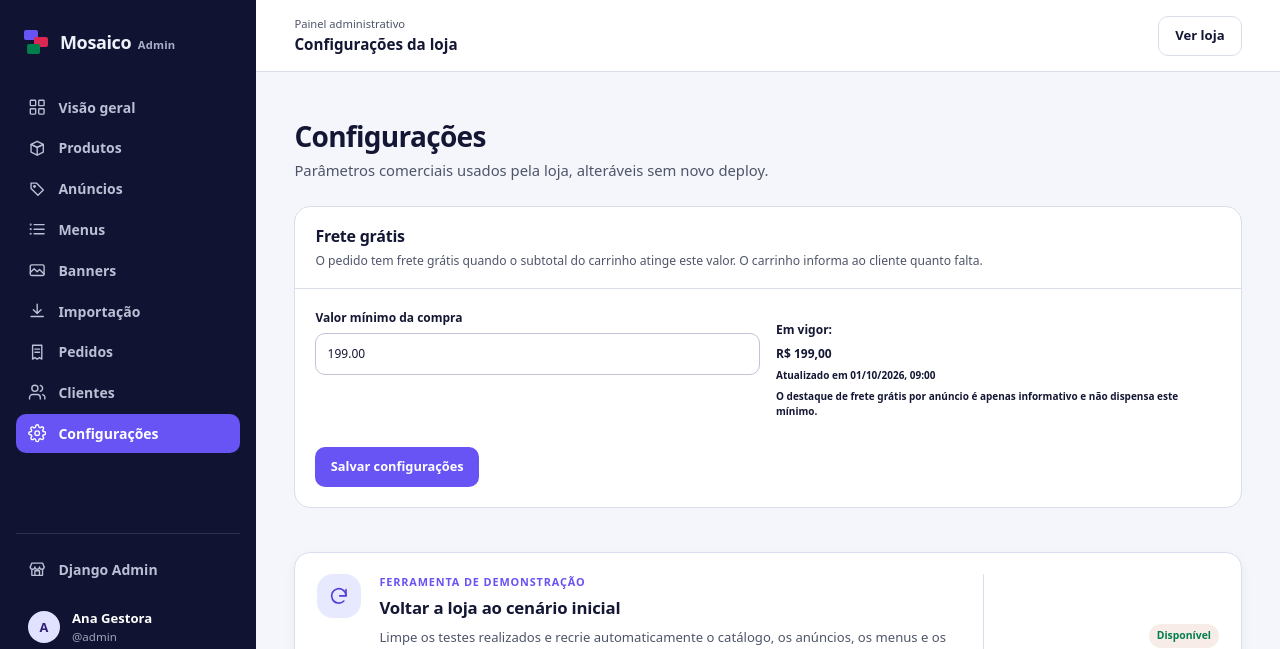
it: Mosaico Admin › edits the free shipping minimum from the settings page
This screenshot has width=1280, height=649.
Replace the text in the number field labelled "Valor mínimo da compra" with "250.00": coordinates (538, 354) x1=315 y1=333 x2=760 y2=375
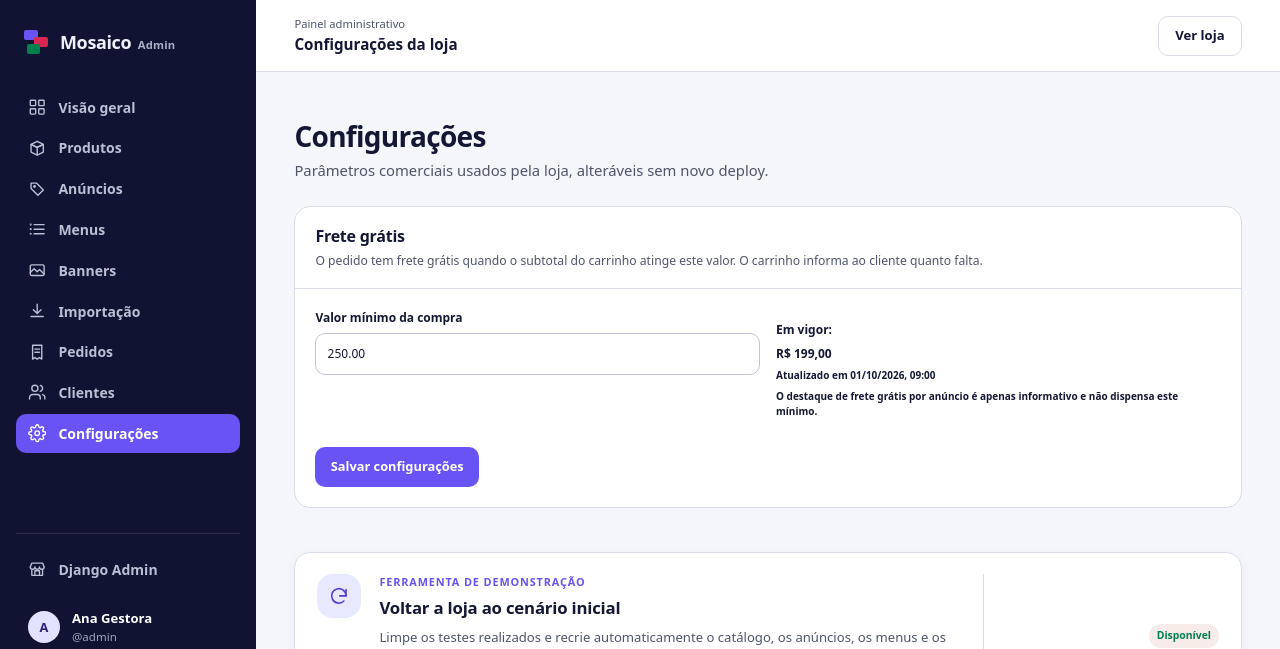
Click the button "Salvar configurações": coordinates (397, 467) x1=315 y1=447 x2=479 y2=487
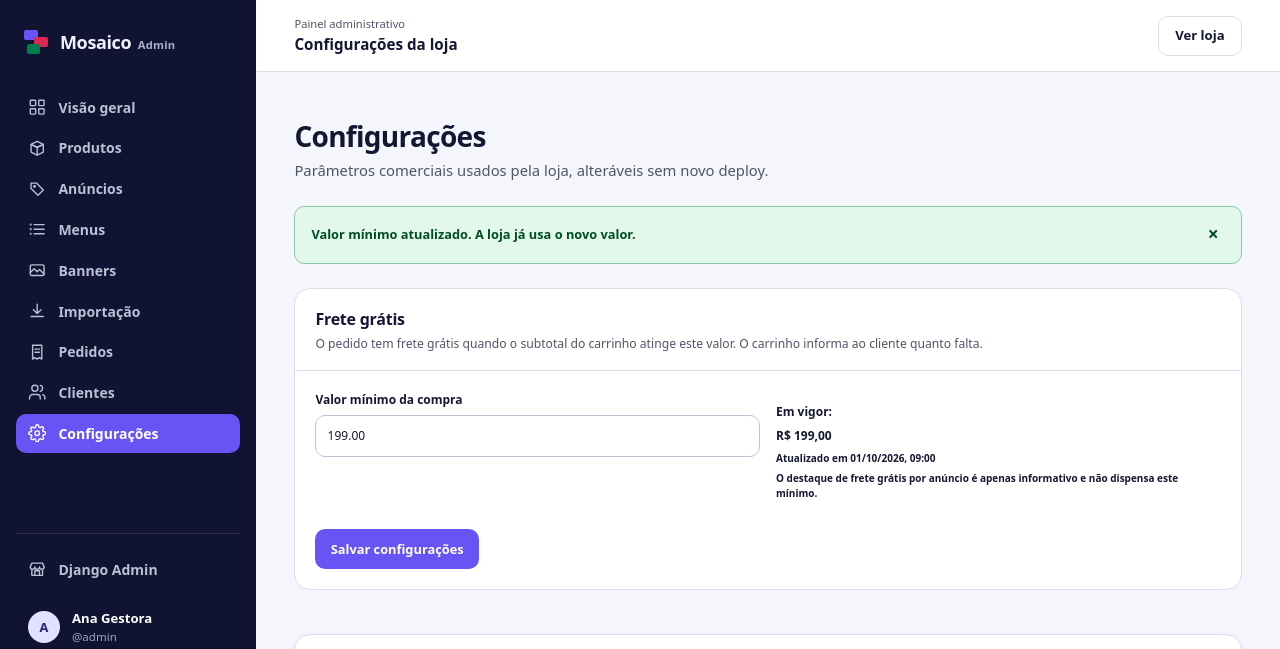
Check: the text "Valor mínimo atualizado. A loja já usa o novo valor." is shown, box x1=311 y1=225 x2=636 y2=244
